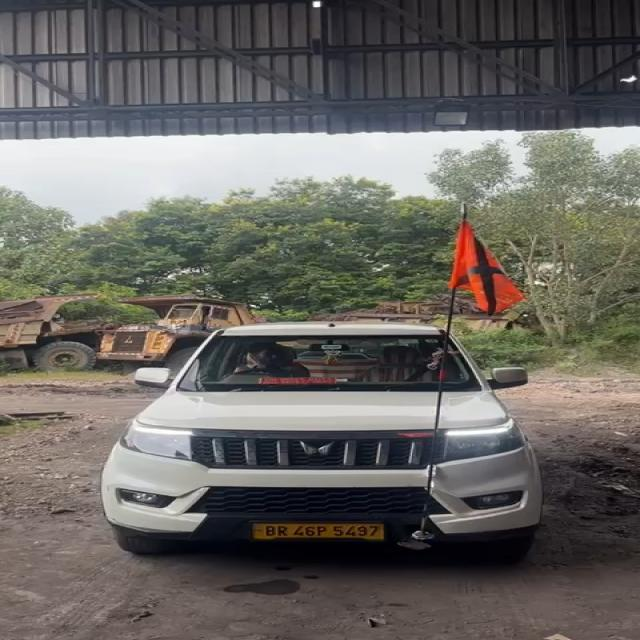light_vehicle: (104, 318, 549, 549)
